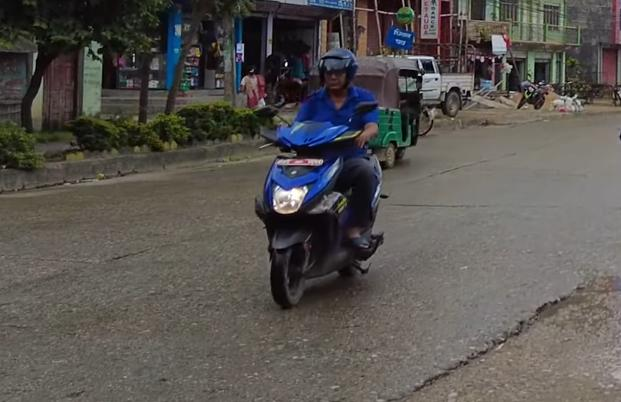auto_rickshaw: (351, 58, 424, 167)
scooter: (242, 95, 404, 312)
transport_vehicle: (381, 41, 480, 119)
